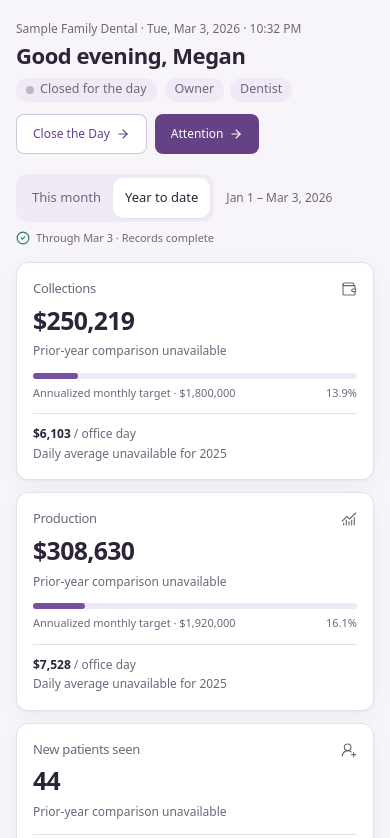
Test: goal meters › a complete month shows expected progress and projected finish
The width and height of the screenshot is (390, 838).
Click the button "This month" at (66, 198), box [20,178,113,218]
(page scrolled)
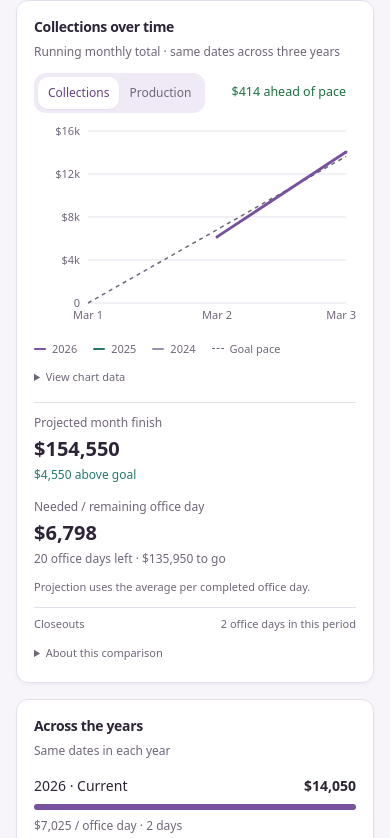
Expected: the text "Projected month finish" is shown, [34,414,162,431]
